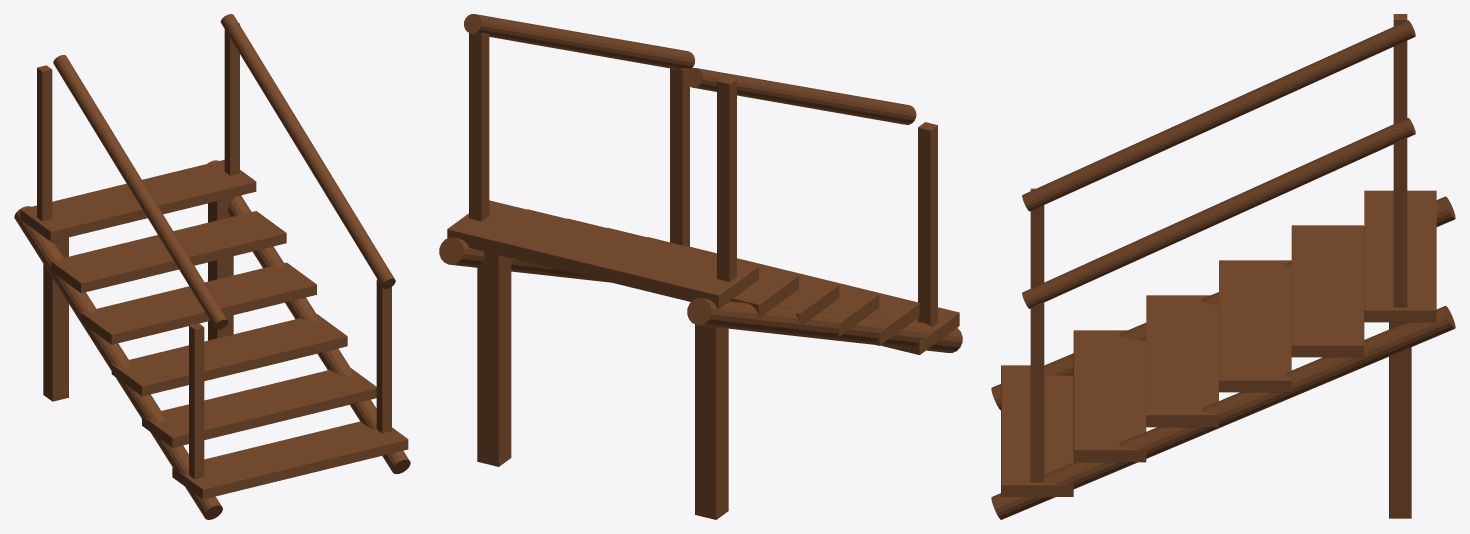
Rendered from source-edit.glb.
3 views of the same model, side by side, from view 1: azimuth 30°, elevation 25°; view 2: azimuth 150°, elevation 25°; view 3: azimuth 270°, elevation 25° (orthographic). The views are drawn at different scales.
Parts seen in each view (by area): view 1: Tread_4, Tread_0, Tread_3, Tread_2, Tread_1, Tread_5, Handrail, Handrail.001, Stringer, Support, Stringer.001, Railing_Post (+4 smaller); view 2: Tread_5, Support.001, Support, Stringer, Handrail.001, Handrail, Railing_Post.001, Railing_Post, Railing_Post.003, Railing_Post.002, Tread_4, Tread_3 (+4 smaller); view 3: Tread_4, Tread_3, Tread_2, Stringer.001, Tread_1, Tread_5, Handrail, Handrail.001, Tread_0, Support.001, Railing_Post.002, Railing_Post.003 (+3 smaller).
Boxes of the visible parts, x1,y1,x2,y2 form: Tread_4: (51, 211, 286, 293); Tread_0: (172, 421, 408, 499); Tread_3: (81, 262, 316, 344); Tread_2: (111, 314, 347, 396); Tread_1: (142, 368, 376, 447); Tread_5: (20, 159, 256, 241); Handrail: (53, 55, 228, 329); Handrail.001: (220, 14, 395, 288); Stringer: (14, 206, 222, 519); Support: (43, 237, 68, 401); Stringer.001: (207, 160, 410, 473); Railing_Post: (189, 323, 204, 479); Tread_5: (447, 200, 758, 308); Support.001: (477, 251, 511, 466); Support: (695, 324, 728, 519); Stringer: (687, 298, 962, 352); Handrail.001: (464, 14, 694, 69); Handrail: (685, 68, 916, 124); Railing_Post.001: (717, 75, 736, 281); Railing_Post: (918, 122, 937, 326); Railing_Post.003: (469, 18, 489, 221); Railing_Post.002: (670, 68, 689, 246); Tread_4: (527, 209, 798, 317); Tread_3: (567, 218, 839, 327); Tread_4: (1291, 225, 1364, 357); Tread_3: (1219, 260, 1291, 392); Tread_2: (1146, 295, 1218, 427); Stringer.001: (991, 306, 1455, 519); Tread_1: (1073, 330, 1146, 462); Tread_5: (1364, 190, 1436, 322); Handrail: (1022, 20, 1415, 211); Handrail.001: (1022, 118, 1415, 308); Tread_0: (1001, 365, 1073, 496); Support.001: (1389, 322, 1411, 518); Railing_Post.002: (1030, 302, 1044, 482); Railing_Post.003: (1393, 123, 1407, 307).
Bounding box in the file's own units: 1.25 × 1.96 × 2.05.
